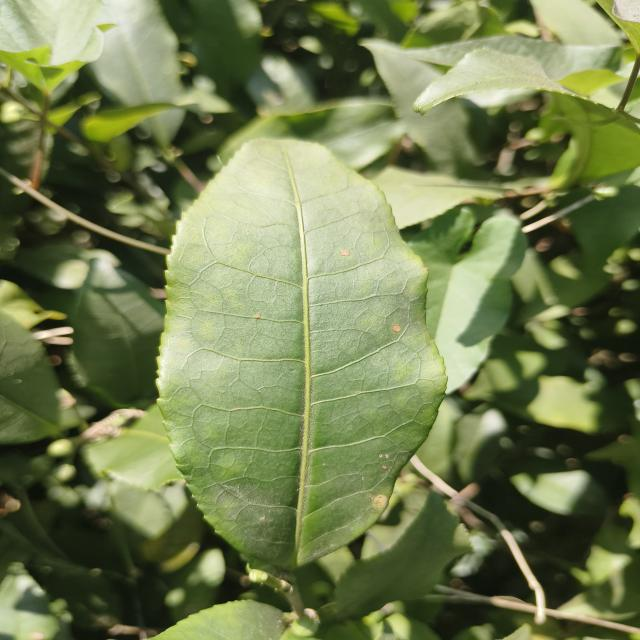Leaf: (158, 140, 446, 568), (413, 48, 640, 189), (336, 492, 470, 618), (61, 258, 165, 407), (370, 40, 479, 175), (220, 98, 402, 170), (90, 0, 184, 106), (84, 404, 182, 490), (0, 314, 61, 444), (501, 456, 608, 516), (453, 409, 507, 483), (143, 110, 183, 144)
